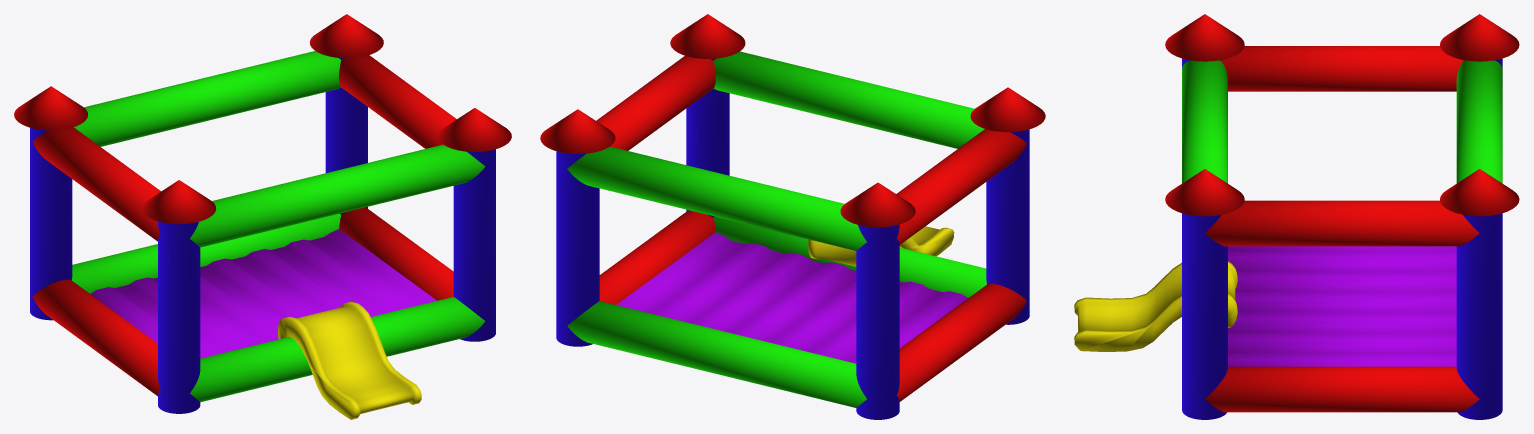
The model's file is BouncyCastle.fbx.
3 renders of one model, left to right at view 1: azimuth 30°, elevation 25°; view 2: azimuth 150°, elevation 25°; view 3: azimuth 270°, elevation 25°, orthographic. The views are drawn at different scales.
Parts seen in each view (by area): view 1: Cylinder, Cylinder.004, Cube, Cylinder.002, Cylinder.003, Cylinder.001, Plane; view 2: Cylinder, Cylinder.004, Cube, Cylinder.002, Cylinder.003, Cylinder.001, Plane; view 3: Cube, Cylinder, Cylinder.003, Cylinder.001, Cylinder.004, Plane.
Part boxes in pixels (x1,y1,x2,y2): Cylinder: [14, 14, 511, 413]; Cylinder.004: [74, 51, 485, 247]; Cube: [90, 229, 436, 358]; Cylinder.002: [71, 213, 485, 402]; Cylinder.003: [32, 55, 456, 241]; Cylinder.001: [32, 207, 453, 396]; Plane: [277, 301, 421, 419]; Cylinder: [540, 14, 1045, 419]; Cylinder.004: [567, 51, 984, 250]; Cube: [616, 232, 967, 363]; Cylinder.002: [567, 216, 986, 407]; Cylinder.003: [596, 55, 1026, 244]; Cylinder.001: [599, 210, 1026, 401]; Plane: [808, 226, 954, 266]; Cube: [1228, 246, 1456, 366]; Cylinder: [1165, 14, 1519, 419]; Cylinder.003: [1204, 46, 1480, 246]; Cylinder.001: [1204, 366, 1480, 412]; Cylinder.004: [1182, 60, 1502, 183]; Plane: [1074, 261, 1237, 351].
Size of the model in its own units: 701 by 422 by 700.
